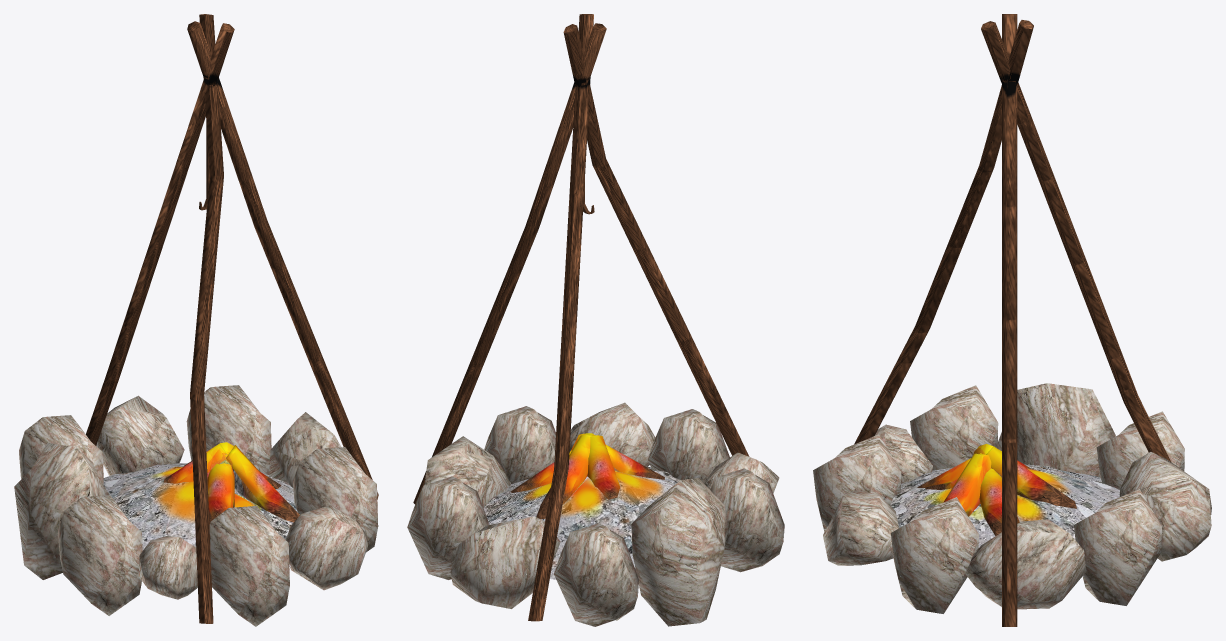
Rendered from BlockModel.obj.
The picture shows the model from 3 angles, left to right: view 1: azimuth 30°, elevation 25°; view 2: azimuth 150°, elevation 25°; view 3: azimuth 270°, elevation 25°; orthographic projection.
Parts seen in each view (by area): view 1: fireplace; view 2: fireplace; view 3: fireplace.
Part boxes in pixels (box(x1,y1,x2,y2)): fireplace: box(14, 14, 378, 626); fireplace: box(407, 14, 784, 626); fireplace: box(813, 14, 1211, 626).
Size of the model in its own units: 1 by 1.52 by 1.
